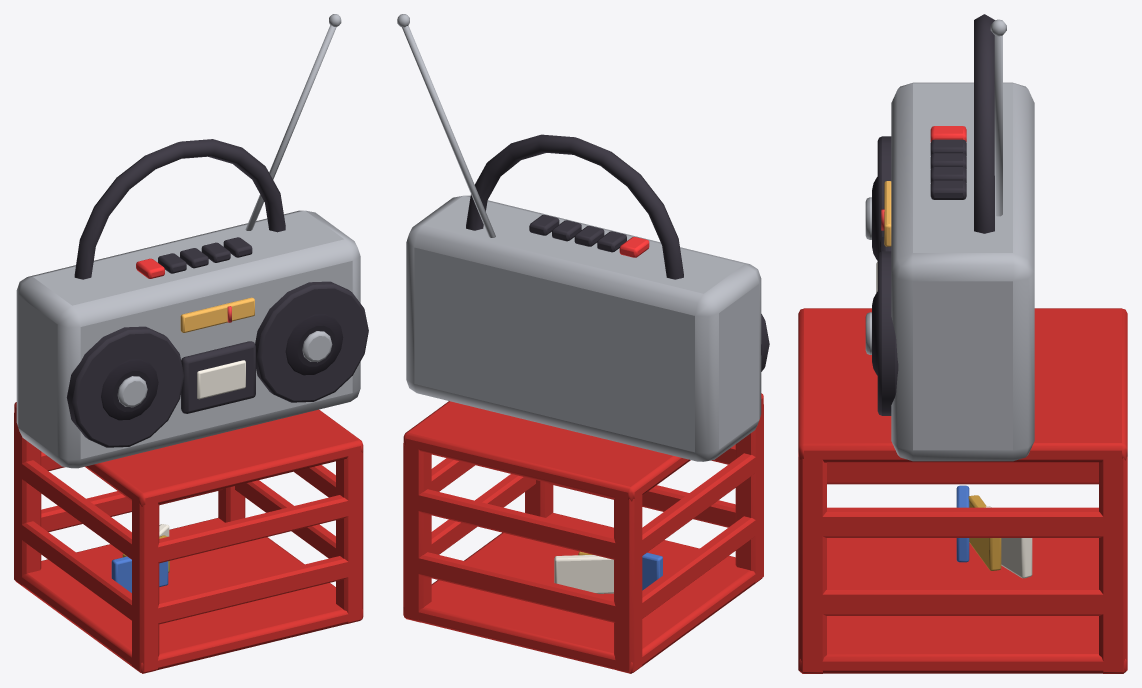
Rendered from boombox_l1.glb.
3 renders of one model, left to right at view 1: azimuth 30°, elevation 25°; view 2: azimuth 150°, elevation 25°; view 3: azimuth 270°, elevation 25°, orthographic. The views are drawn at different scales.
Visible parts, largest first — view 1: boombox_l1; view 2: boombox_l1; view 3: boombox_l1.
Boxes of the visible parts, bbox=[...] form: boombox_l1: bbox=[14, 14, 368, 673]; boombox_l1: bbox=[397, 14, 769, 673]; boombox_l1: bbox=[798, 14, 1127, 673].
Size of the model in its own units: 0.6514 by 1.06 by 0.46.
